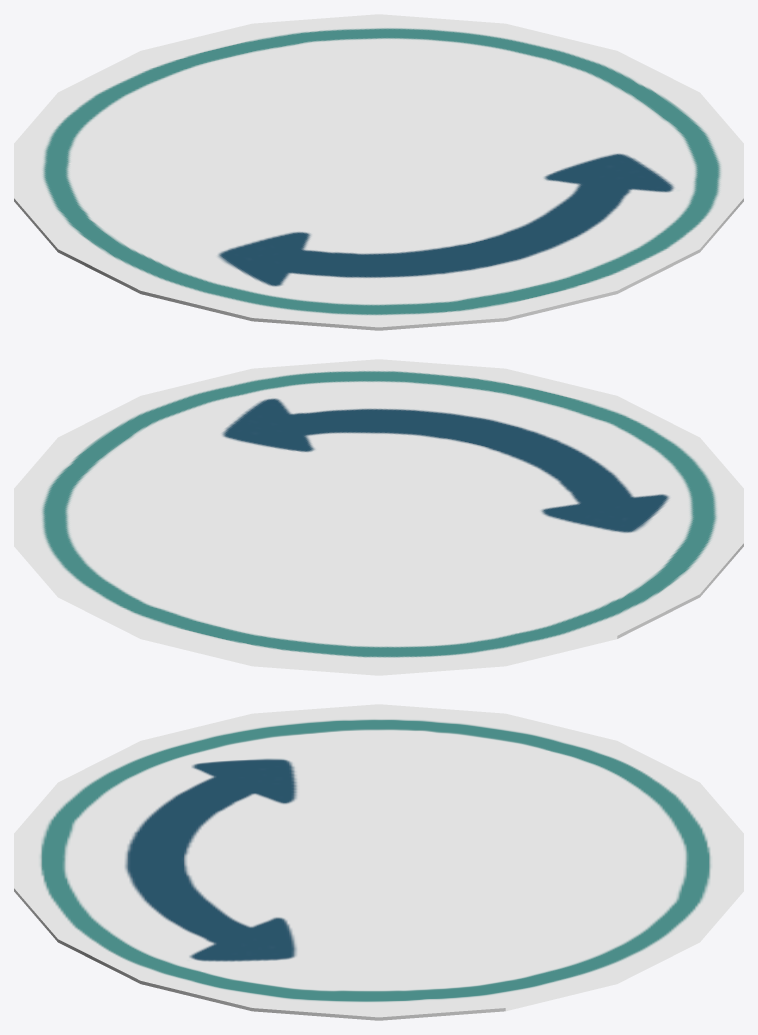
File: turn.FBX
The picture shows the model from 3 angles, top to bottom: view 1: azimuth 30°, elevation 25°; view 2: azimuth 150°, elevation 25°; view 3: azimuth 270°, elevation 25°; orthographic projection.
Visible parts, largest first — view 1: Cylinder001; view 2: Cylinder001; view 3: Cylinder001.
Part boxes in pixels (left/top/right/bottom): Cylinder001: left=14, top=14, right=743, bottom=330; Cylinder001: left=14, top=359, right=743, bottom=675; Cylinder001: left=14, top=704, right=743, bottom=1020.
Size of the model in its own units: 100 by 0.5 by 98.48.
